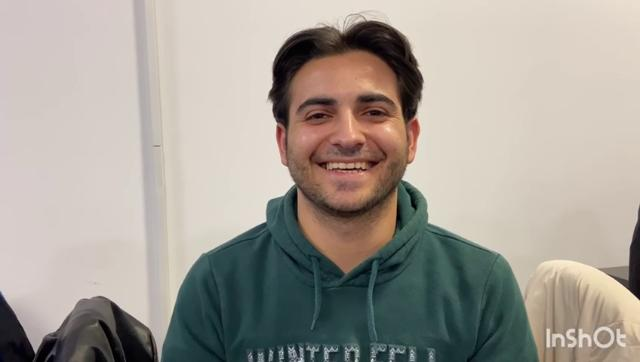senang: (285, 50, 410, 219)
